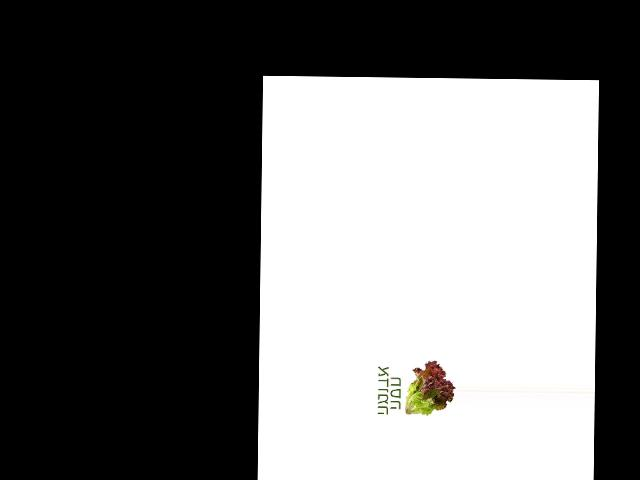lettuce: (403, 359, 455, 421)
